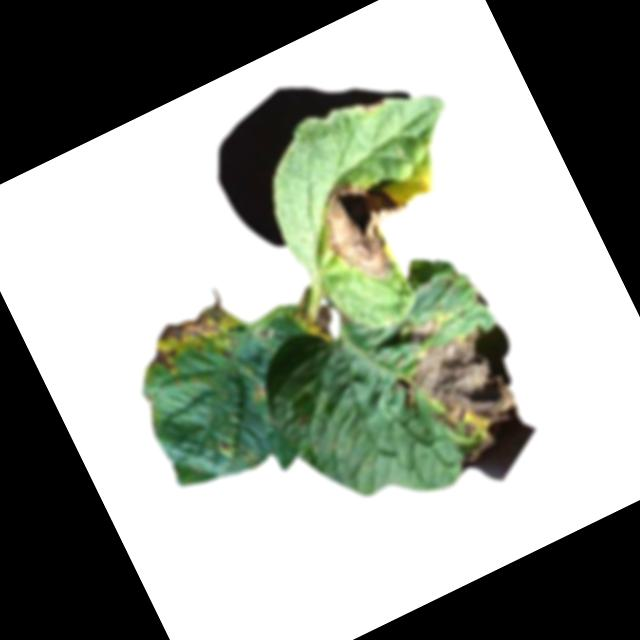Early_blight: (386, 323, 539, 481), (306, 161, 434, 296), (136, 293, 254, 382), (291, 286, 345, 350), (407, 315, 446, 346)
